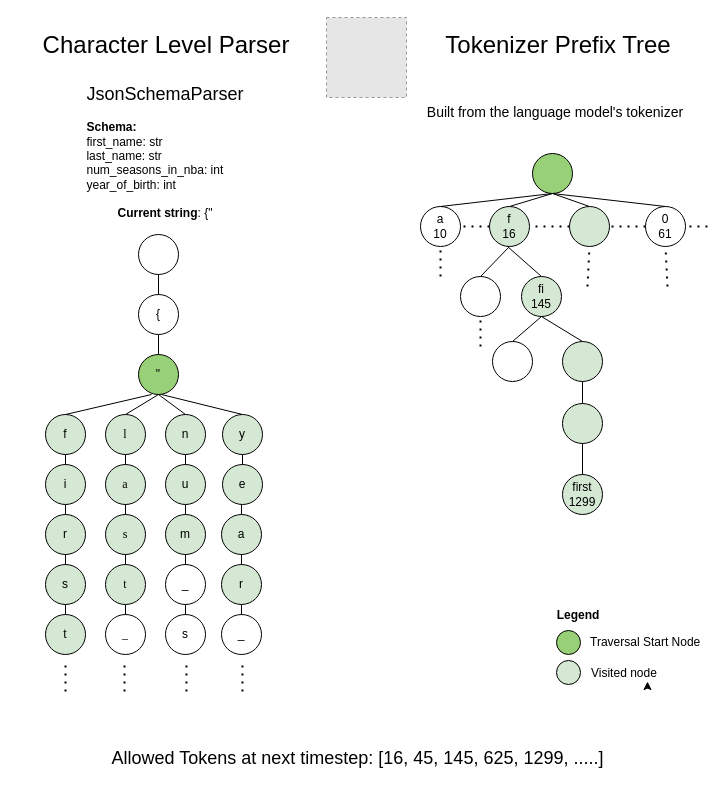
This 726x791 diagram has some shape labels left out. Grey dashed boxes stand in for pictures. The shapes that lost their labels are listed below. From the top down, each one's box as (x1, y1, x2, y2) in pixels, then its label:
(532, 152, 572, 194): Root N/A
(568, 206, 610, 246): l 45
(138, 234, 178, 274): Start
(460, 276, 500, 316): fa 120
(492, 340, 532, 382): fil 590
(562, 340, 602, 382): fir 625
(562, 402, 602, 444): firs N/A
